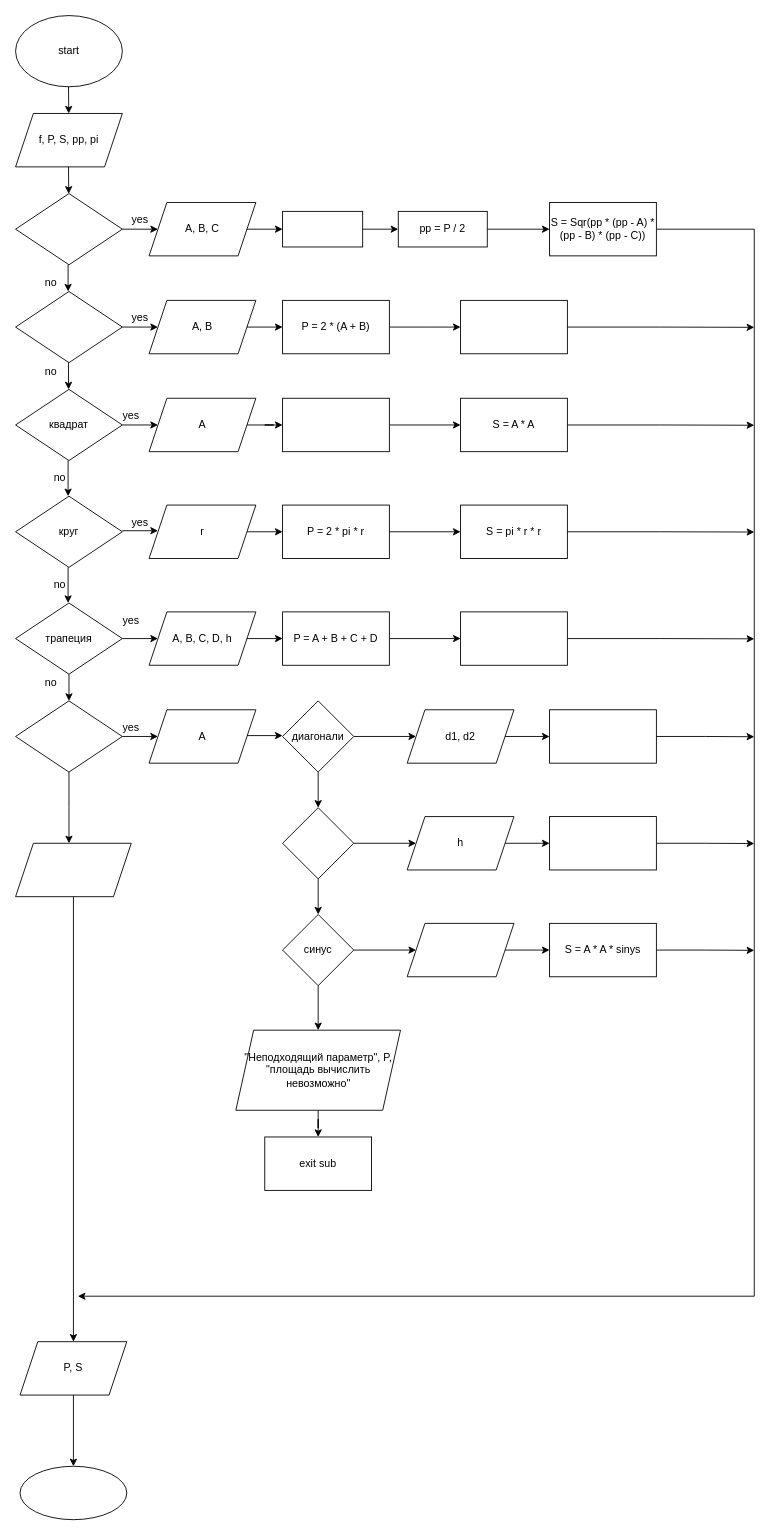
Some shapes in this 777 by 1535 pixel diagram are drawn without their labels. The shapes that lost their labels are listed below. From the top down, each one's centre as x and y in pixels, then its label:
[68,229]: треугольник
[322,228]: P = A + B + C
[68,327]: прямоугольник
[513,326]: S = A * B
[335,424]: P = 4 * A
[513,638]: S = ((A + B) / 2) * h
[68,736]: ромб
[602,736]: S = (d1 * d2) / 2
[318,843]: высота
[602,843]: S = A * h
[73,869]: "такой фигуры нет"
[460,949]: sinys
[73,1492]: end
